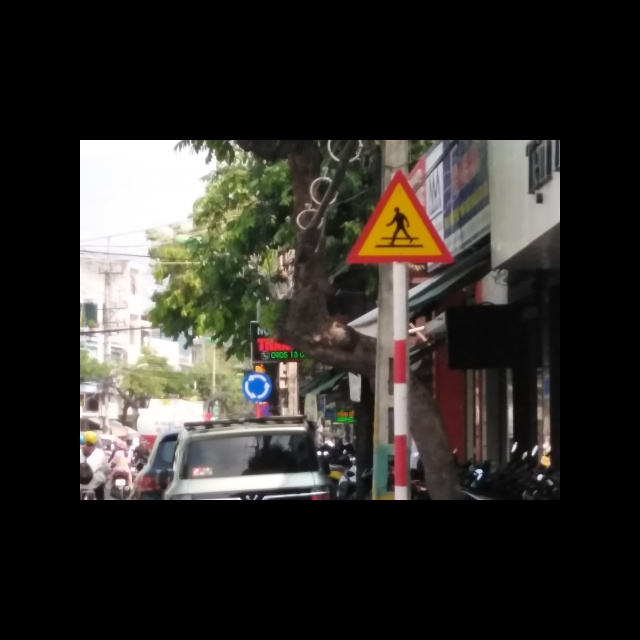Nơi giao nhau chạy theo vòng xuyến: (241, 372, 273, 401)
Đường người đi bộ sang đường: (344, 169, 455, 266)
